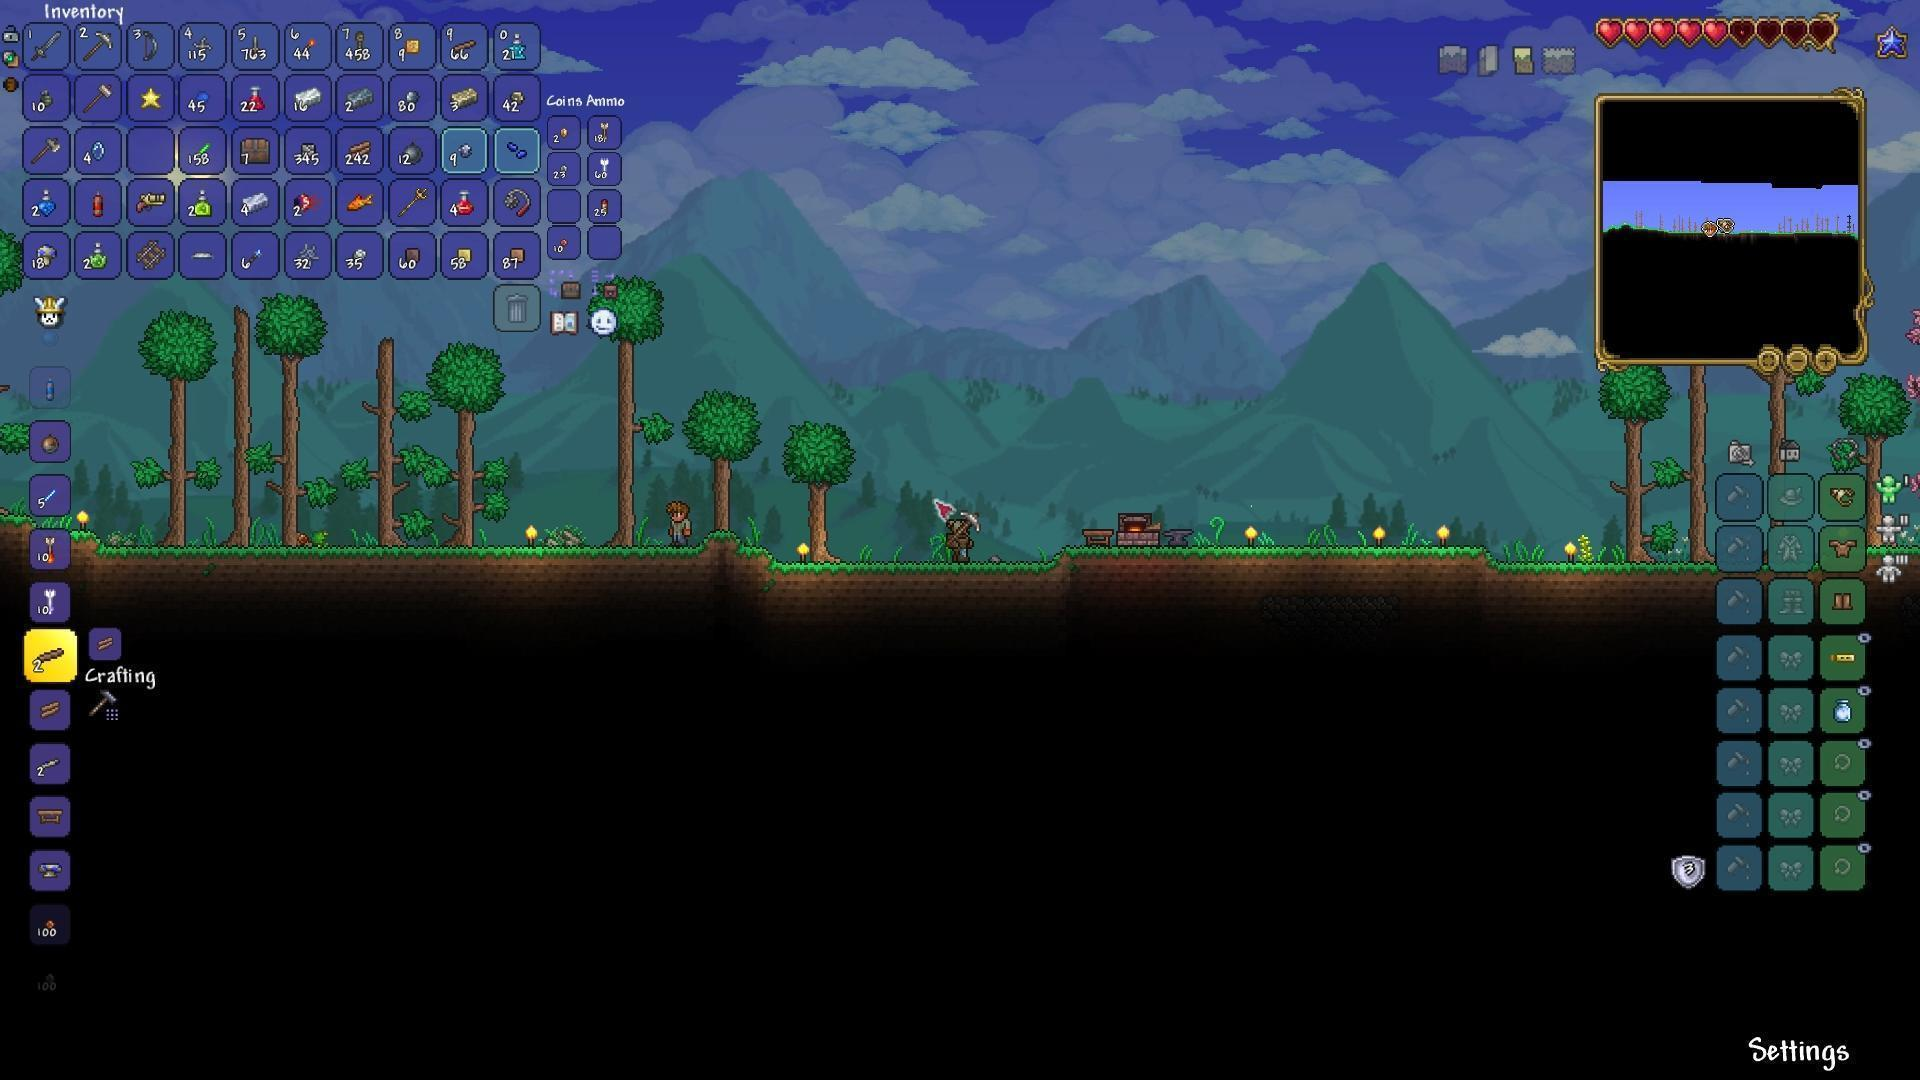anvil: (1158, 517, 1196, 546)
arrow: (44, 533, 55, 566), (44, 585, 55, 616), (599, 153, 612, 179), (599, 120, 613, 144)
axe: (30, 137, 61, 166)
bomb: (401, 135, 425, 165)
bow: (137, 24, 162, 62)
breastplate: (1829, 538, 1861, 559)
cobwebI: (298, 241, 322, 266)
eye: (293, 190, 320, 212)
furnace: (1113, 509, 1163, 550)
gel: (193, 84, 214, 108)
glowstick: (191, 140, 214, 160)
grenade: (36, 84, 53, 108)
helmet: (1830, 485, 1858, 506)
knife: (249, 33, 260, 58)
legs: (1829, 592, 1857, 613)
lens: (90, 137, 104, 162)
pickaxe: (80, 32, 113, 63)
platform: (34, 646, 65, 666), (37, 757, 61, 774)
recallP: (508, 33, 530, 62)
rope: (353, 25, 367, 61)
shuriken: (190, 36, 214, 55)
sword: (29, 32, 61, 61)
torchT: (521, 522, 545, 551), (1371, 520, 1391, 554), (70, 506, 95, 531), (791, 539, 812, 564), (1242, 524, 1262, 550), (1561, 535, 1578, 563), (1431, 524, 1451, 545)
workbench: (1083, 524, 1113, 546)
